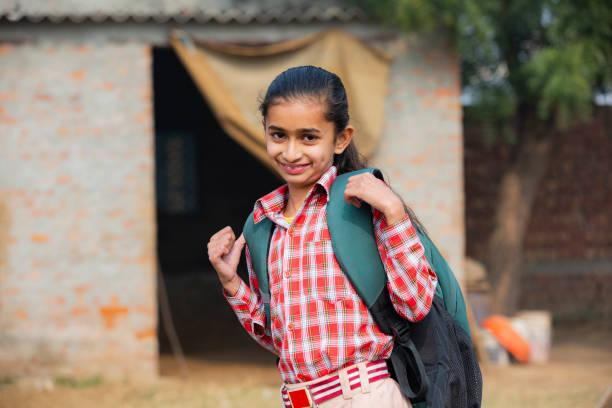Human: (202, 62, 505, 408)
